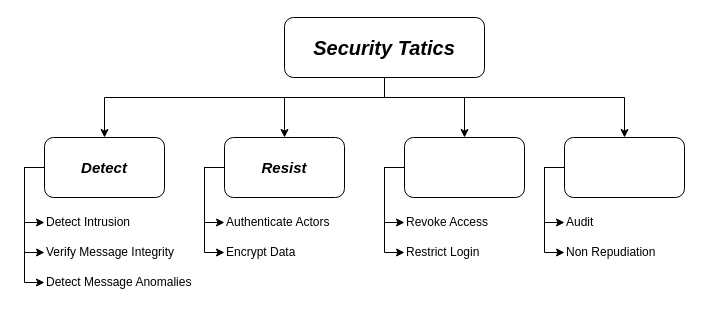
This 702x315 diagram has some shape labels left out. Each missing label, with the centre of its shape:
React: point (464, 167)
Recover: point (624, 167)
